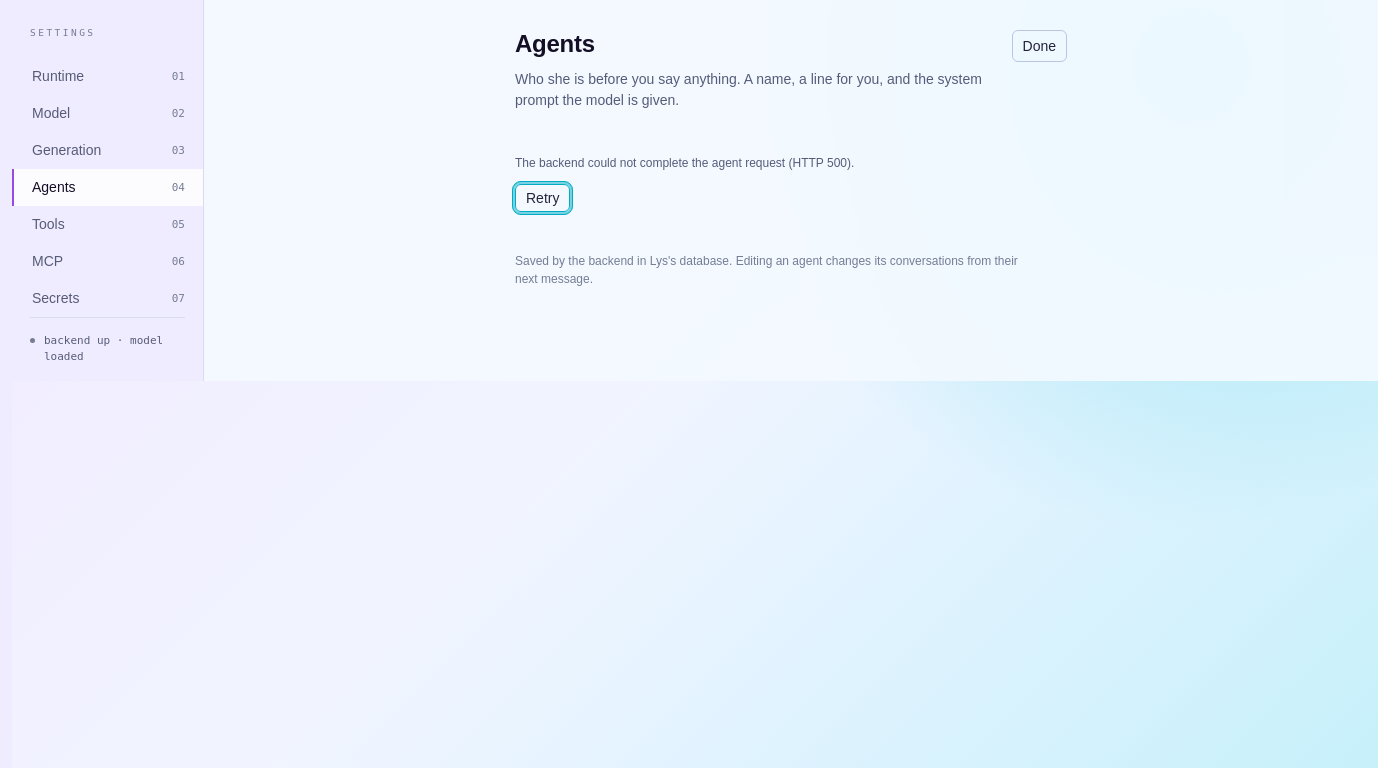
Scenario: AgentPaneContent › shows a failed read with Retry, which reads the agents again
Expected: the text "Saved by the backend in Lys's database" is shown, [515,254,1018,286]
Expected: the message "The backend could not complete the agent request (HTTP 500)." is not empty, [515,156,854,170]
Click the button "Retry" at (543, 198), box [515,184,570,212]
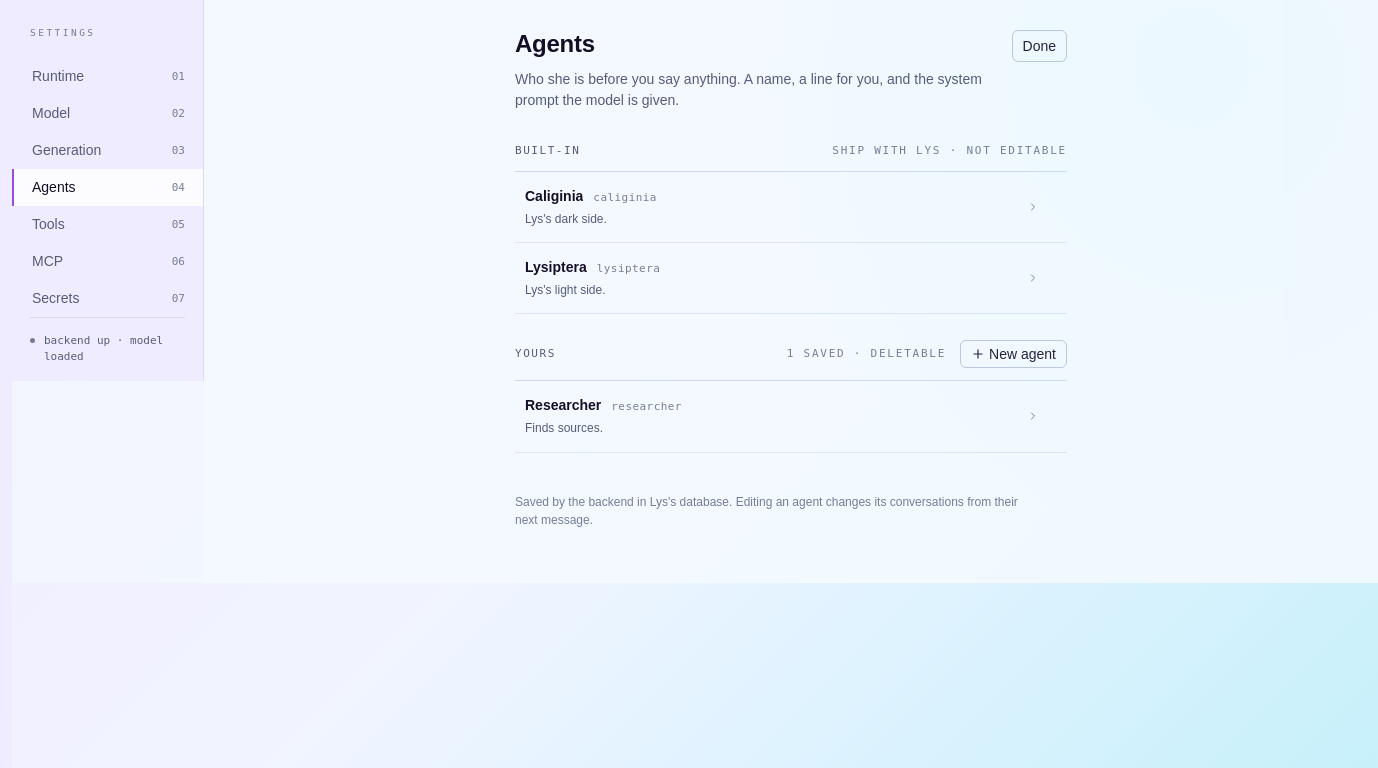
Expected: the button "Researcher researcher Finds sources." is shown, [515,381,1067,452]
Expected: the button "Retry" is gone
